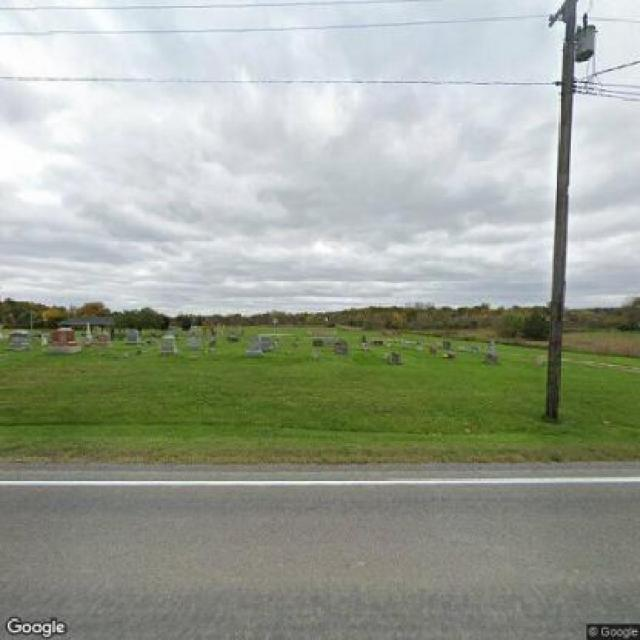pole: (532, 0, 614, 417)
